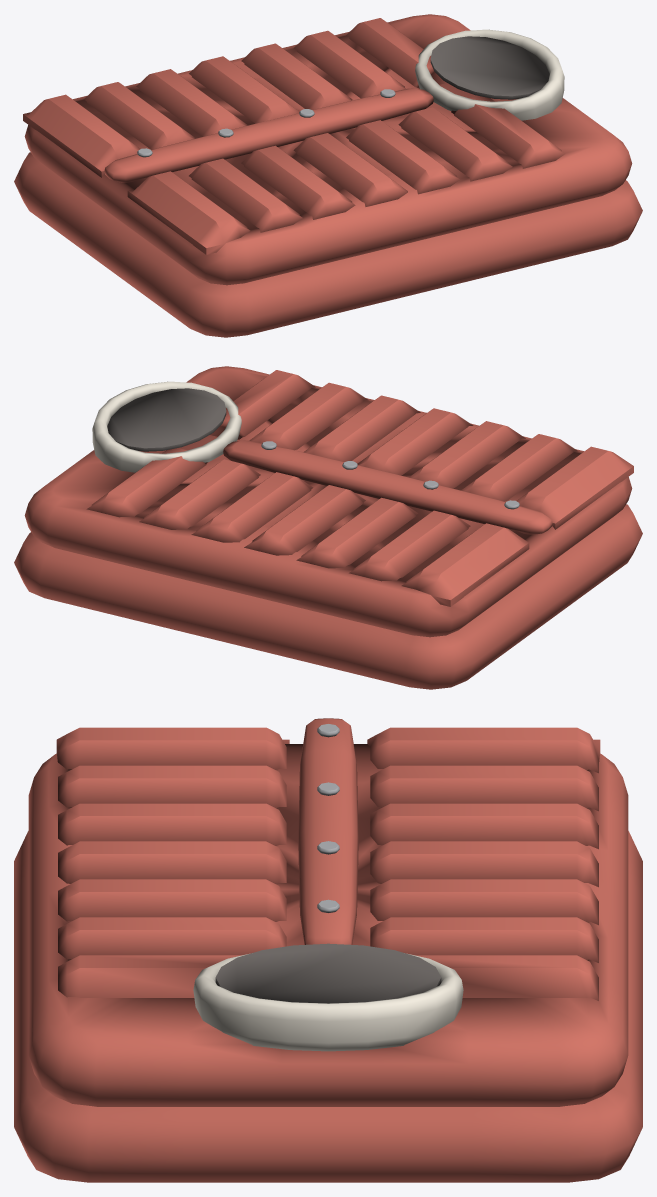
The model's file is wear_padded.glb.
3 views of the same model, one above another, from view 1: azimuth 30°, elevation 25°; view 2: azimuth 150°, elevation 25°; view 3: azimuth 270°, elevation 25° (orthographic). The views are drawn at different scales.
Visible parts, largest first — view 1: PART; view 2: PART; view 3: PART.
Part boxes in pixels (bbox=[...]): PART: bbox=[14, 14, 642, 337]; PART: bbox=[14, 366, 642, 689]; PART: bbox=[14, 718, 642, 1182].
Size of the model in its own units: 0.42 by 0.112 by 0.34.
